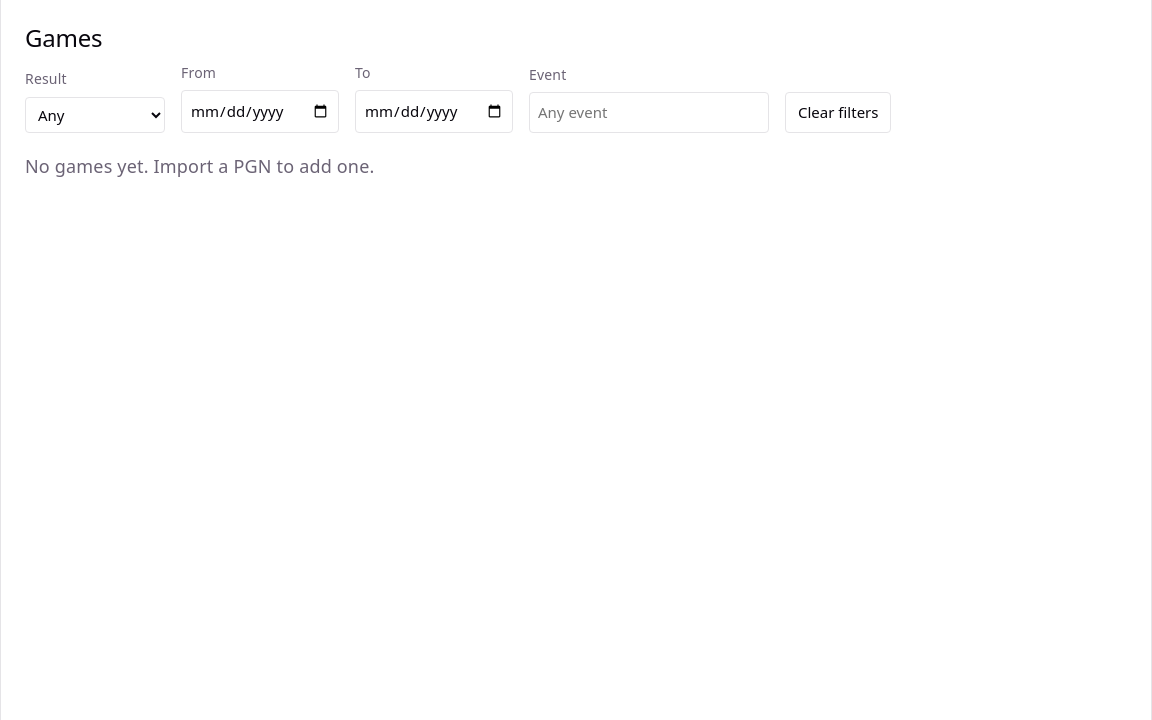
Test case: GamesPage › says the filters matched nothing when a filter is set, and lets the user filter back out
expect the text "No games yet. Import a PGN to add one." is shown: met, box [25,154,374,178]
Select "½-½" in the dropdown labelled "Result". click: (95, 114)
box: [25,96,165,132]
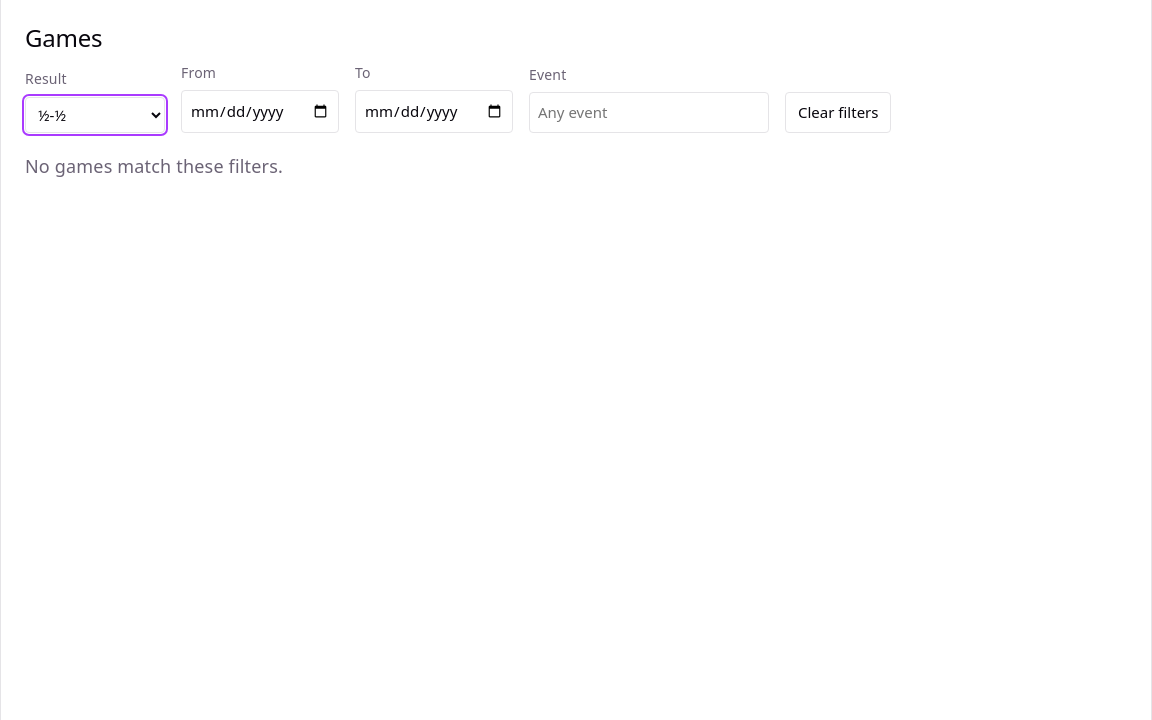
expect the search field labelled "Event" is enabled: met, box [529,92,769,132]
expect the text "No games match these filters." is shown: met, box [25,154,283,178]
Click the button "Clear filters". click: (838, 112)
box: [785,92,892,132]
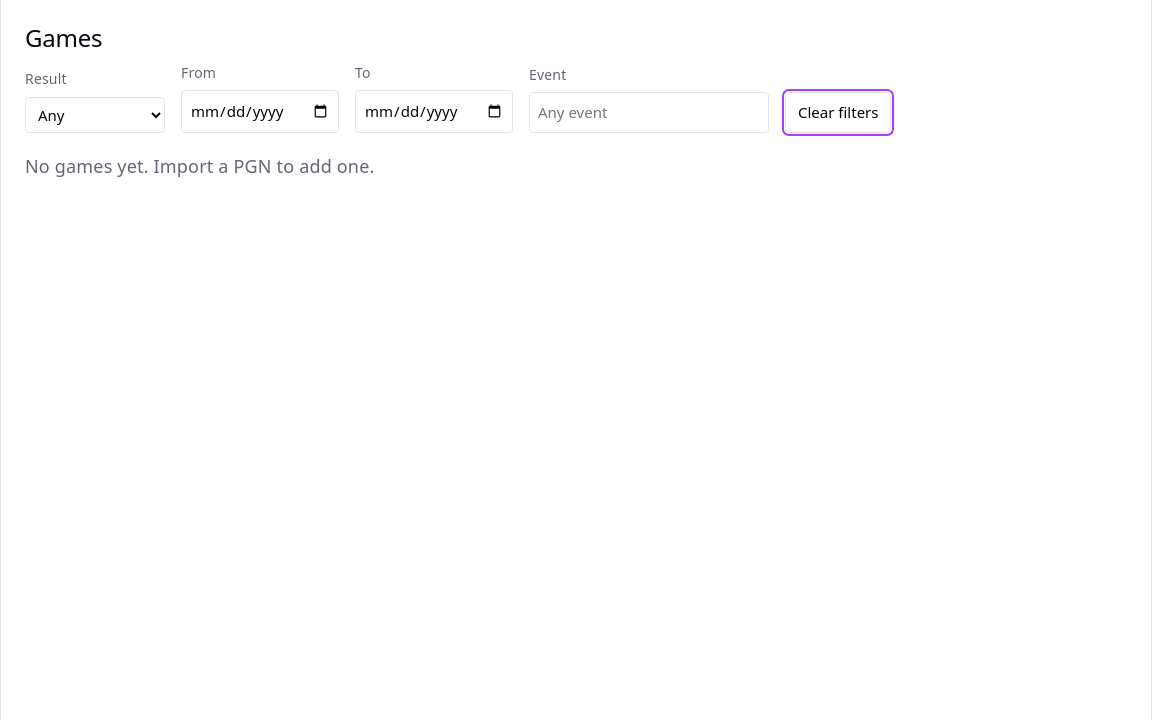
expect the text "No games yet. Import a PGN to add one." is shown: met, box [25,154,374,178]
